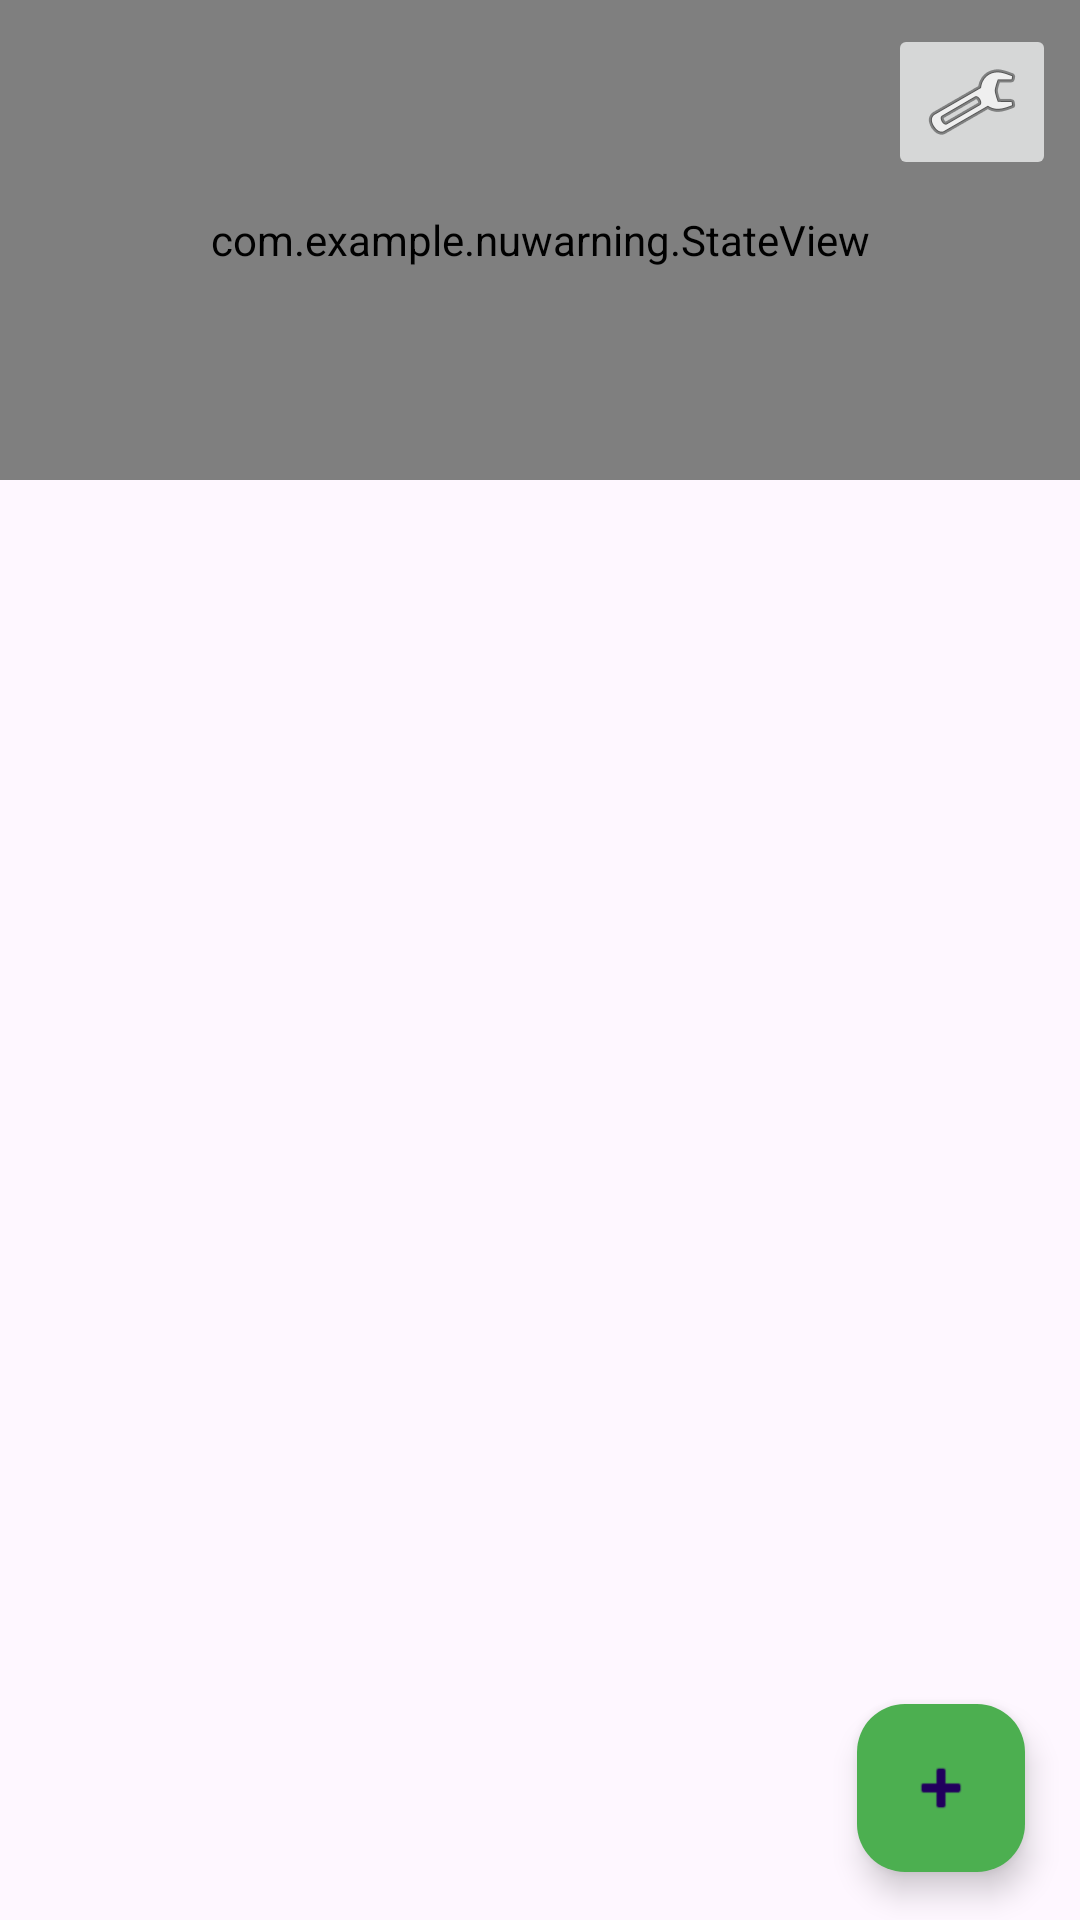

Screen size 1080x1920. Icon name, then its center in pixels as point (x, y):
Add Keyword: point (941, 1788)
preferences: point (972, 102)
